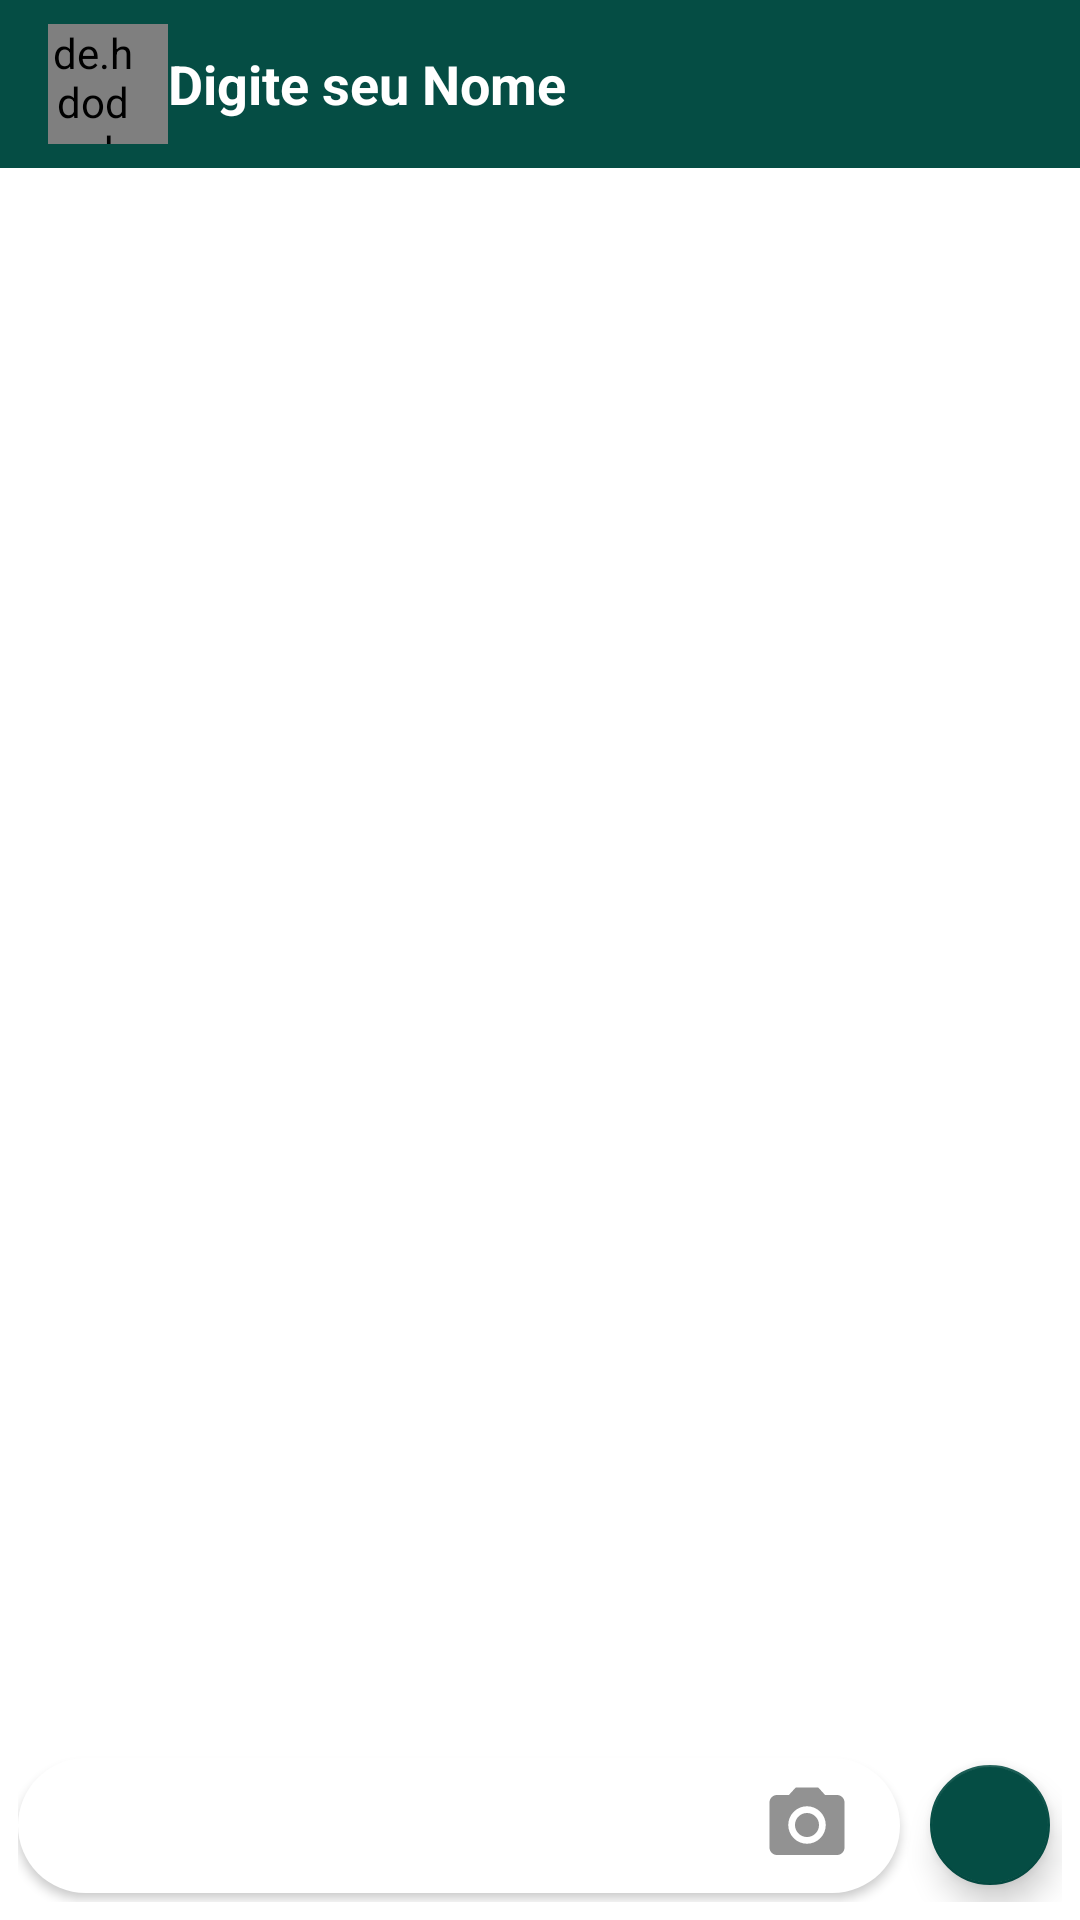

Icon bounding boxes for this 1080w x 1920h phone screenshot, format (x1, y1, x2, y2):
camera: (769, 1787, 845, 1855)
